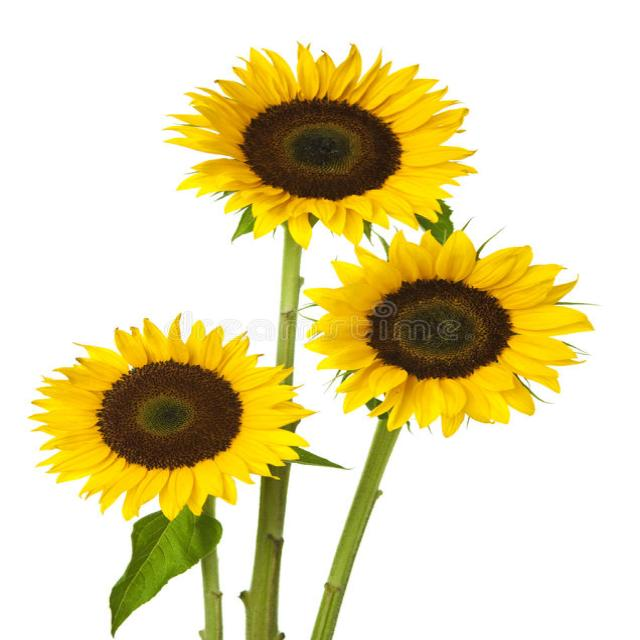sunflower: (141, 27, 487, 238), (16, 311, 332, 522), (305, 224, 596, 427)
